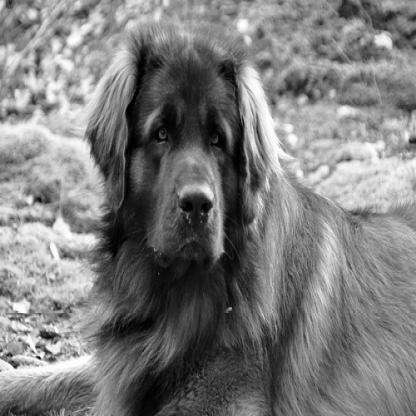Leonberger: (71, 9, 318, 347)
